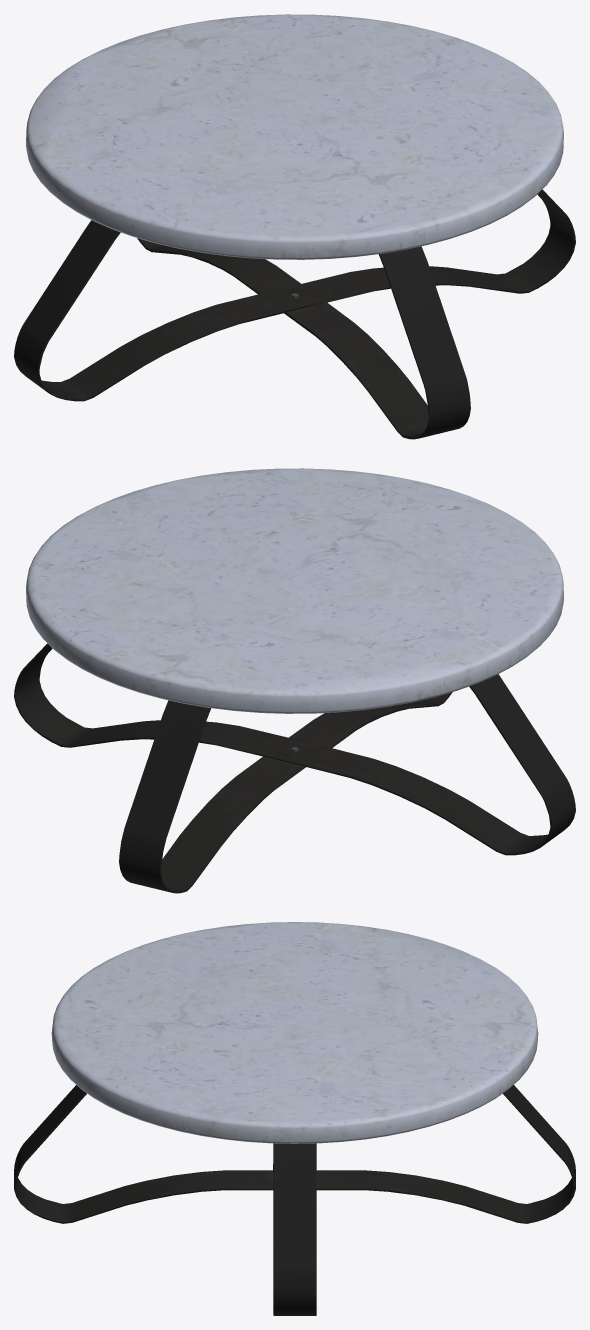
Rendered from coffee_table_round_01.glb.
The picture shows the model from 3 angles, top to bottom: view 1: azimuth 30°, elevation 25°; view 2: azimuth 150°, elevation 25°; view 3: azimuth 270°, elevation 25°; orthographic projection. The views are drawn at different scales.
Parts seen in each view (by area): view 1: coffee_table_round_01; view 2: coffee_table_round_01; view 3: coffee_table_round_01.
Part boxes in pixels (bbox=[...]): coffee_table_round_01: bbox=[14, 14, 575, 439]; coffee_table_round_01: bbox=[14, 468, 575, 893]; coffee_table_round_01: bbox=[14, 922, 575, 1315].
Size of the model in its own units: 1.3 by 0.4909 by 1.3.
1 material, 1 textured.
